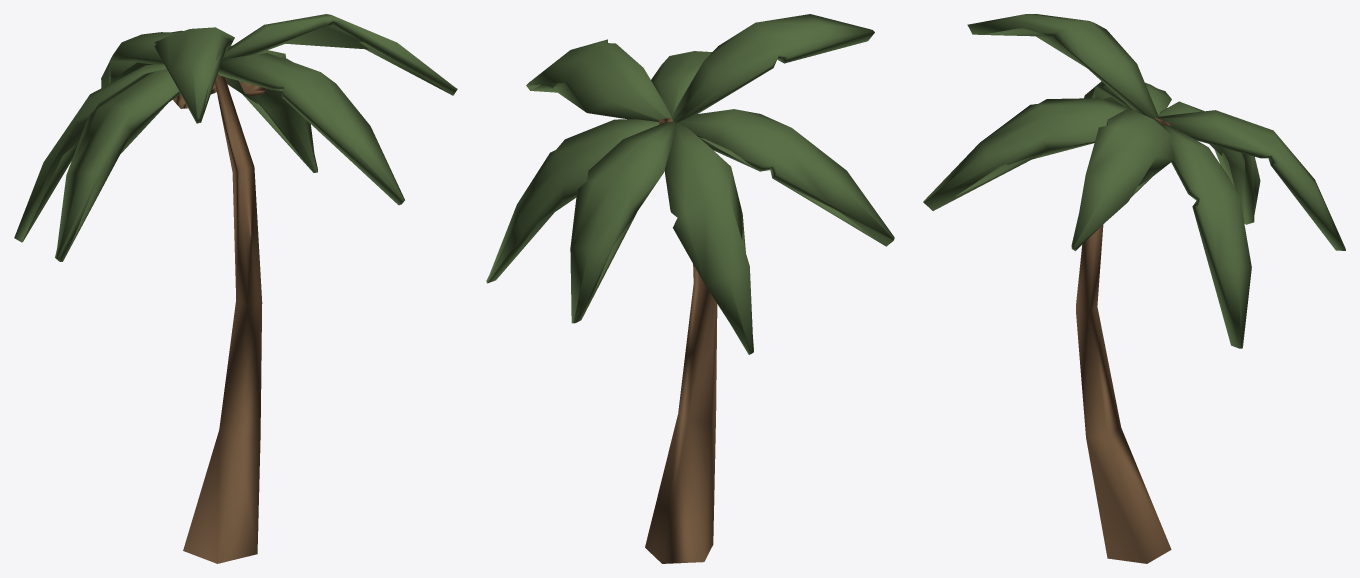
Rendered from palm_tree.FBX.
3 renders of one model, left to right at view 1: azimuth 30°, elevation 25°; view 2: azimuth 150°, elevation 25°; view 3: azimuth 270°, elevation 25°, orthographic. The views are drawn at different scales.
Parts seen in each view (by area): view 1: palm_tree; view 2: palm_tree; view 3: palm_tree.
Part boxes in pixels (<box>): palm_tree: <box>14,14,457,563</box>; palm_tree: <box>486,14,894,563</box>; palm_tree: <box>923,14,1345,563</box>.
Size of the model in its own units: 225 by 299 by 228.
